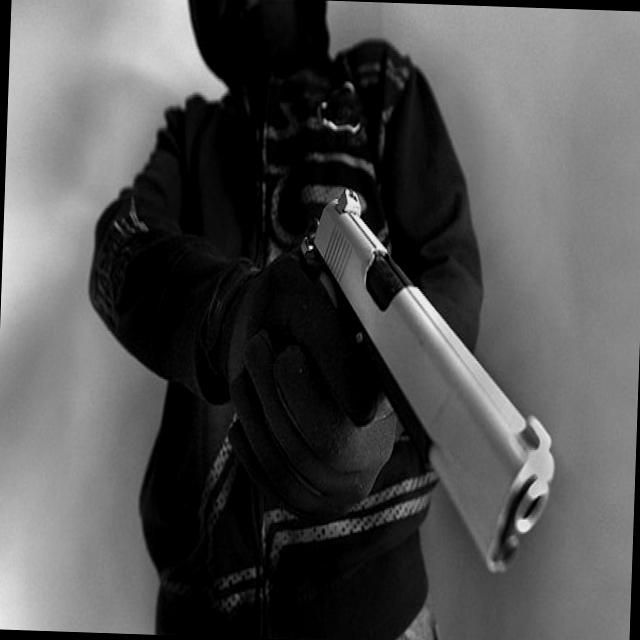handgun: (253, 170, 565, 576)
